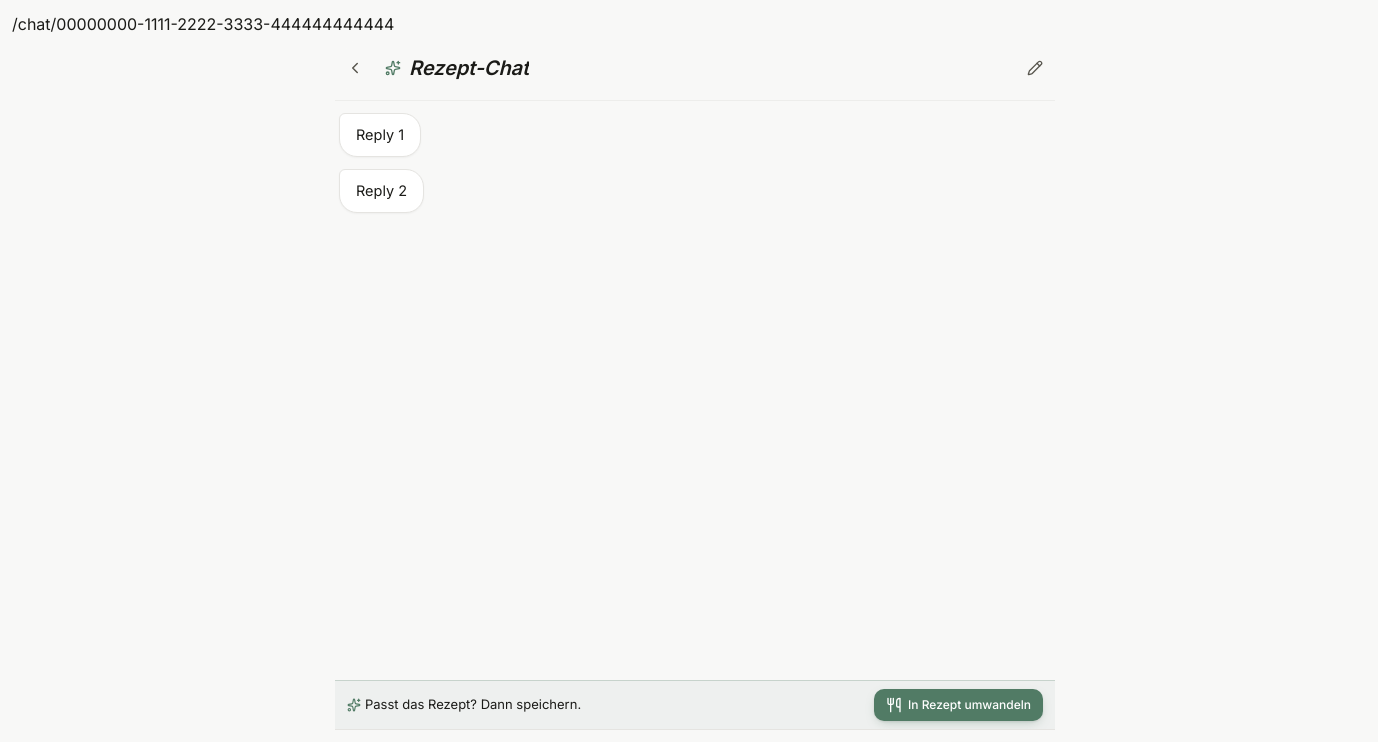
Test: <ChatPage /> — In Rezept umwandeln › REL-3e: renders the localised generic copy when the convert POST 5xx errors
Click the button "In Rezept umwandeln". click: x=958, y=705
box: top-left (874, 689), bottom-right (1043, 721)
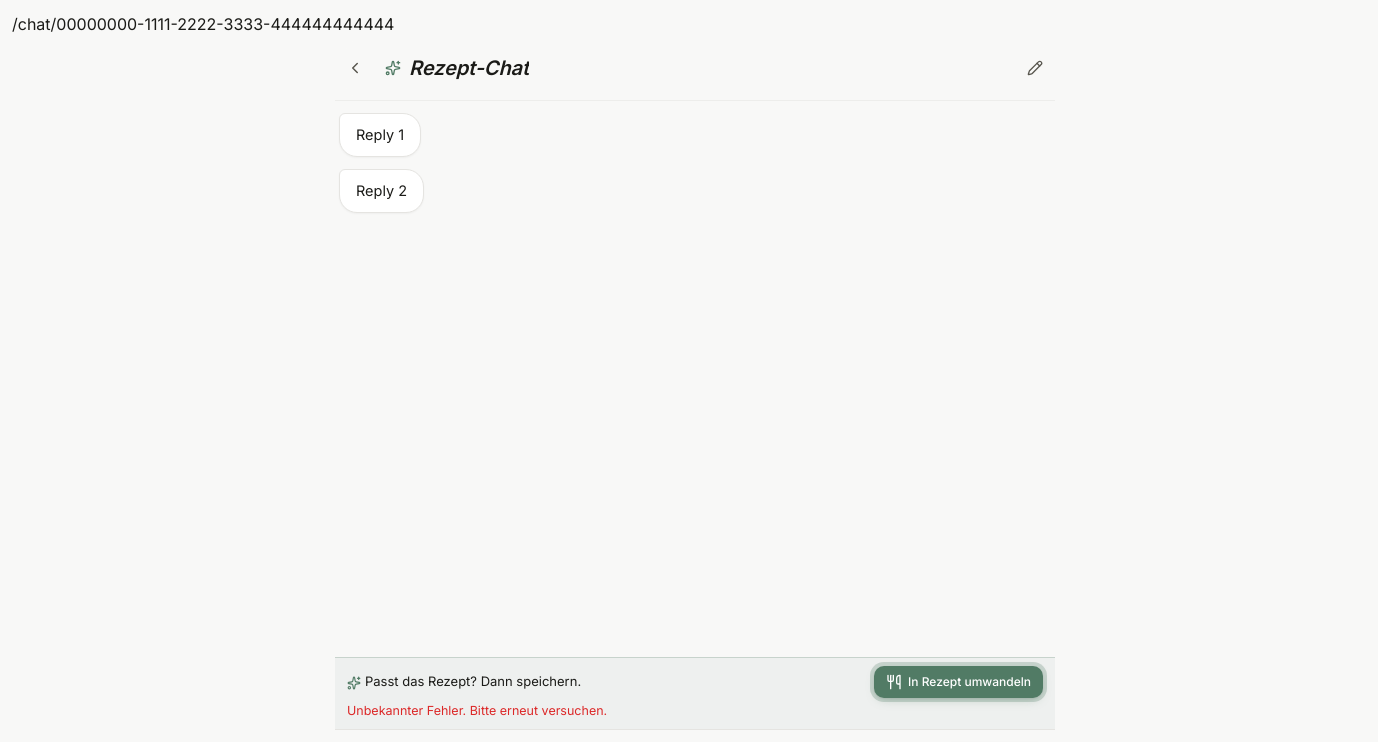
Expected: the message does not show "Stack trace leak", top-left (347, 703), bottom-right (607, 718)
Expected: the message shows "Unbekannter Fehler", top-left (347, 703), bottom-right (607, 718)
